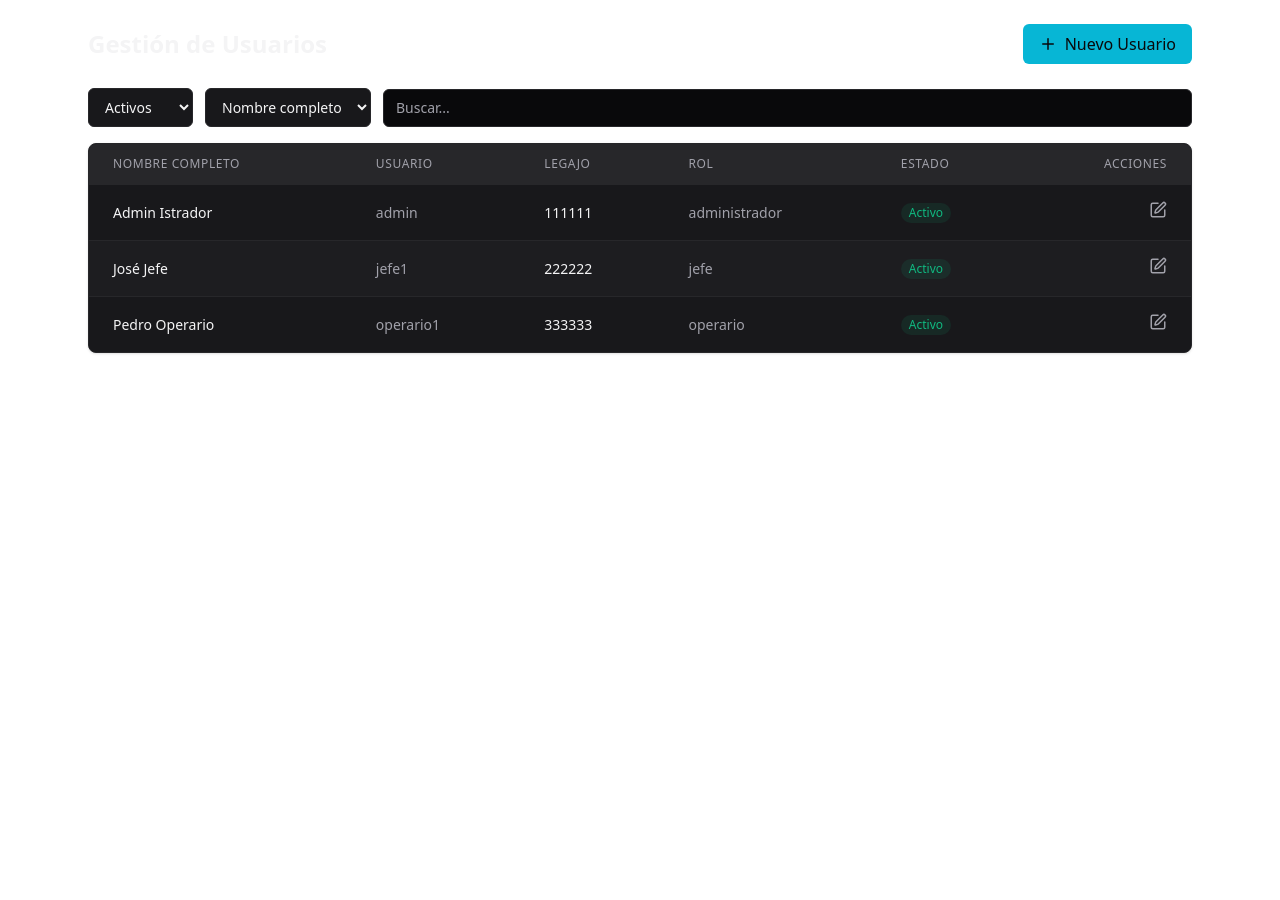
Test: UsuariosPage › clicking "Activar Usuario" sends PUT with activo:true; modal closes on success
Check: the text "Admin Istrador" is shown, box x1=89 y1=184 x2=352 y2=240
Note: Switch to inactivos
Select "Inactivos" in the 1st dropdown: (140, 108) x1=88 y1=88 x2=193 y2=127
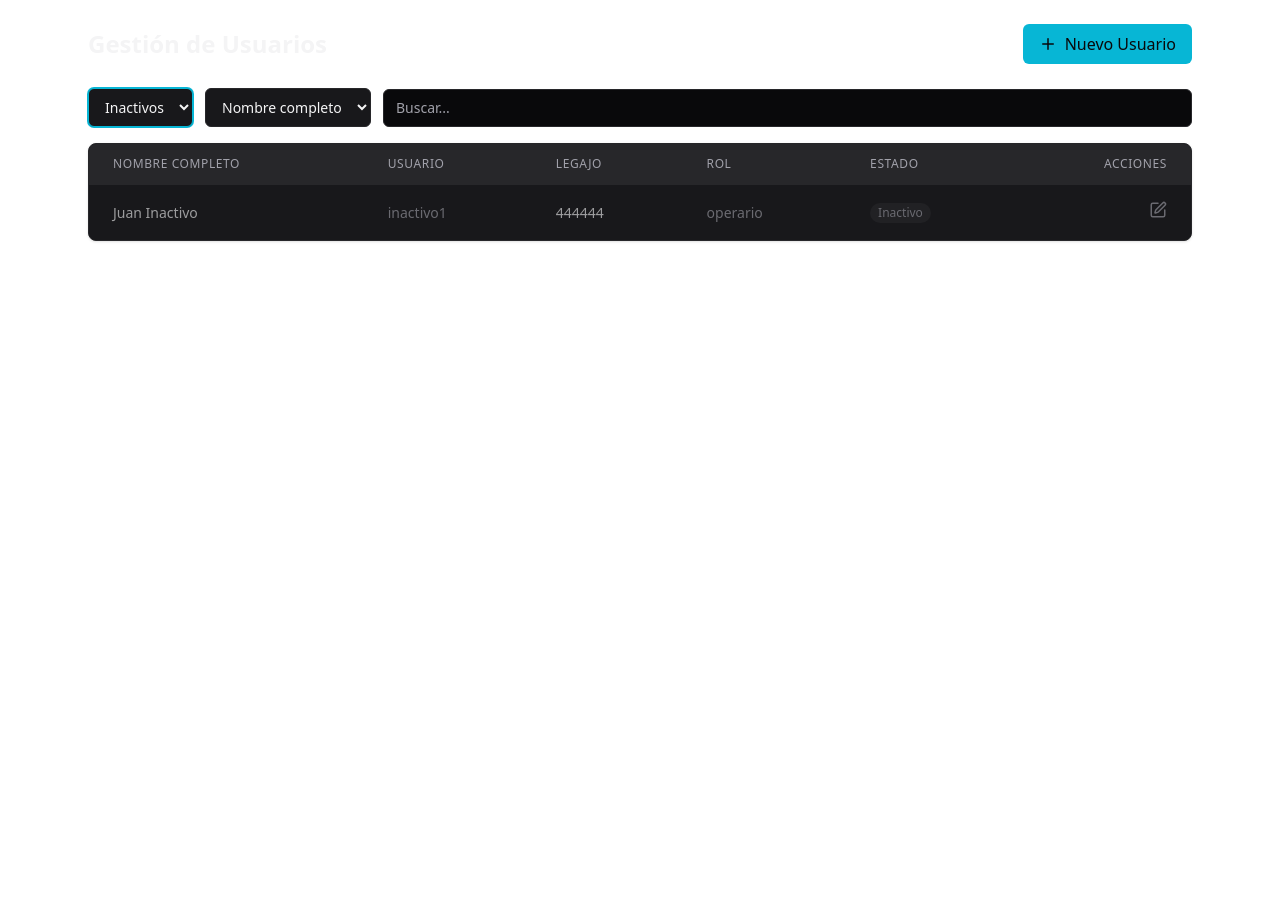
Check: the text "Juan Inactivo" is shown, box x1=89 y1=184 x2=364 y2=240
Click the button titled "Editar": (1158, 210) x1=1149 y1=201 x2=1167 y2=219
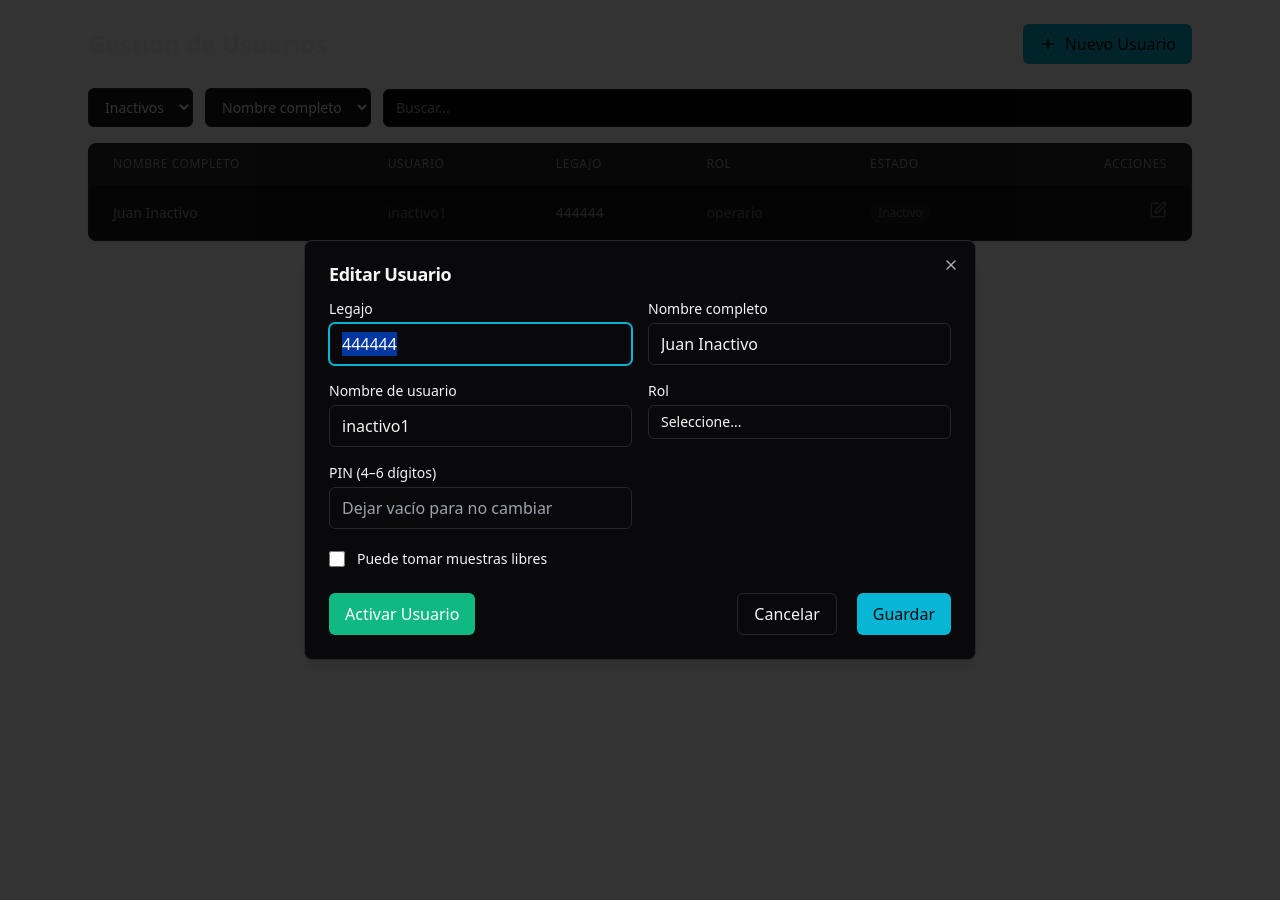
Check: the heading "Editar Usuario" is shown, box x1=329 y1=262 x2=451 y2=286
Click the button "Activar Usuario": (402, 614) x1=329 y1=593 x2=475 y2=635
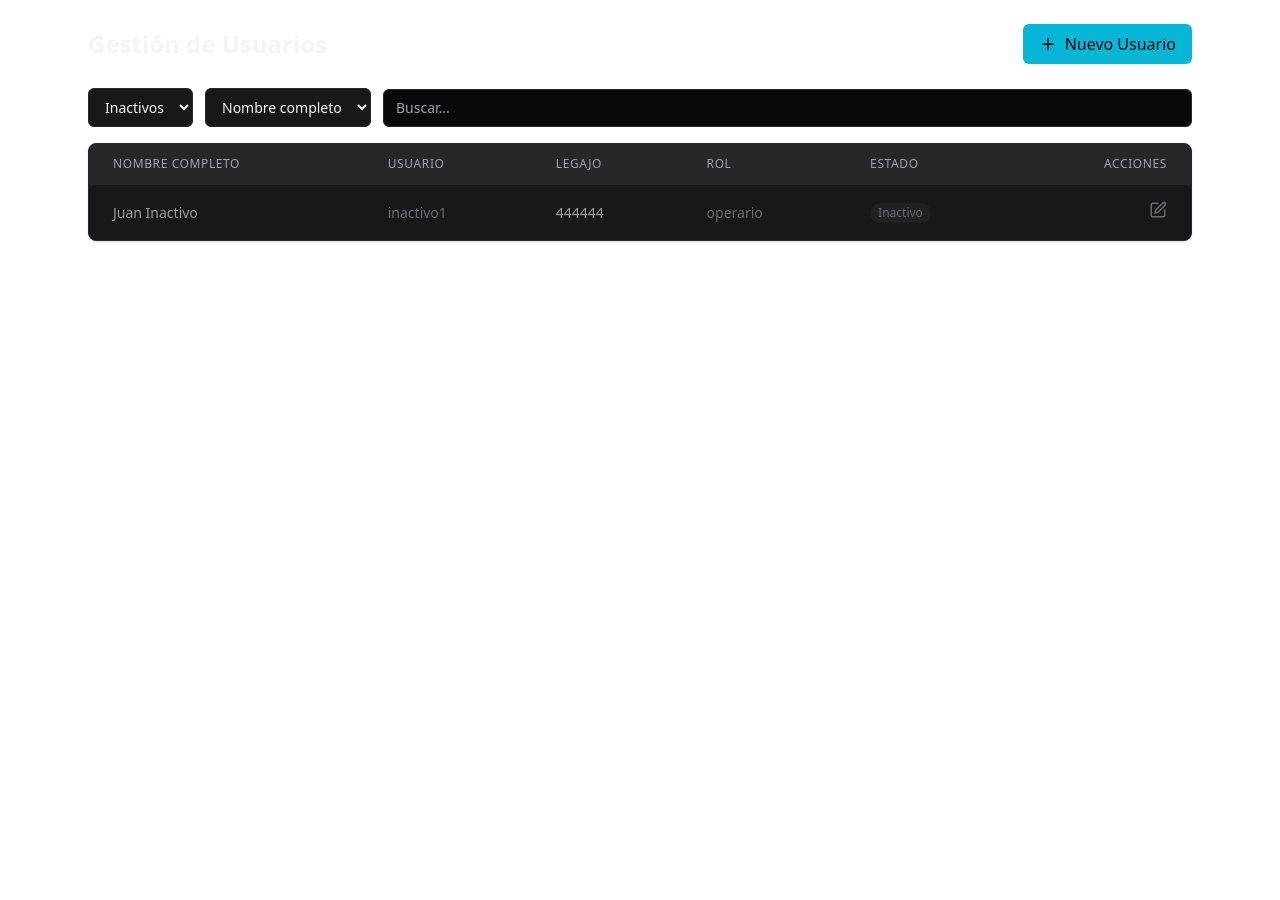
Check: the heading "Editar Usuario" is gone
